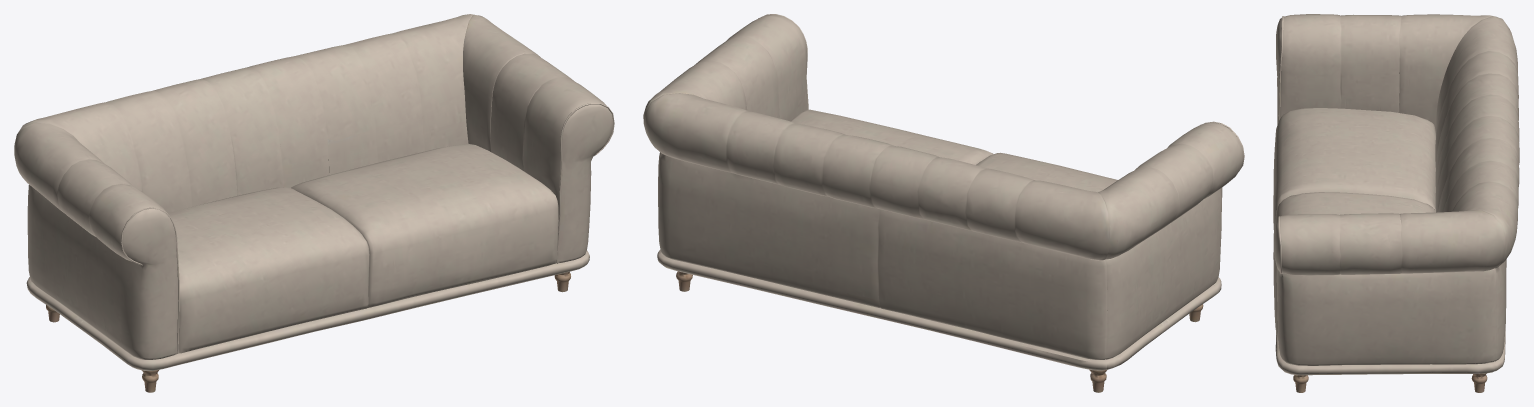
The picture shows the model from 3 angles, left to right: view 1: azimuth 30°, elevation 25°; view 2: azimuth 150°, elevation 25°; view 3: azimuth 270°, elevation 25°; orthographic projection. The views are drawn at different scales.
Parts seen in each view (by area): view 1: Mesh_0; view 2: Mesh_0; view 3: Mesh_0.
Part boxes in pixels (x1,y1,x2,y2): Mesh_0: (14,14,614,392); Mesh_0: (643,14,1244,392); Mesh_0: (1273,14,1519,392).
Bounding box in the file's own units: 1.94 × 0.7399 × 0.9.
Materials: 2 (2 with a texture image).
